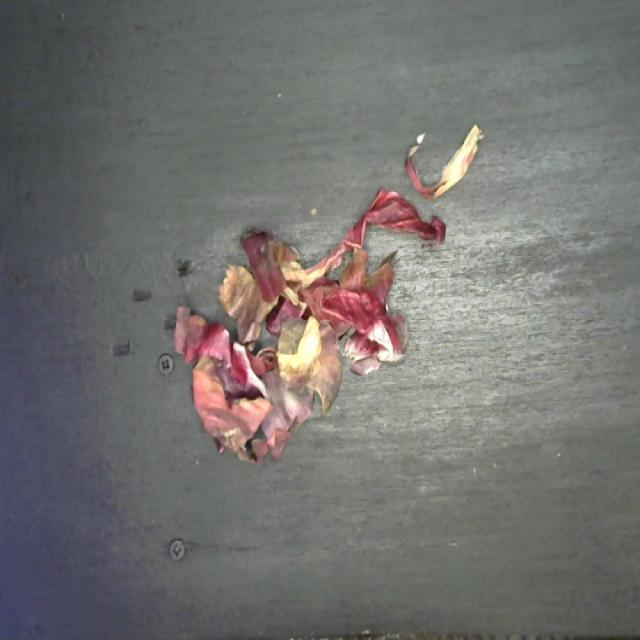biodegradable: (165, 118, 490, 470)
